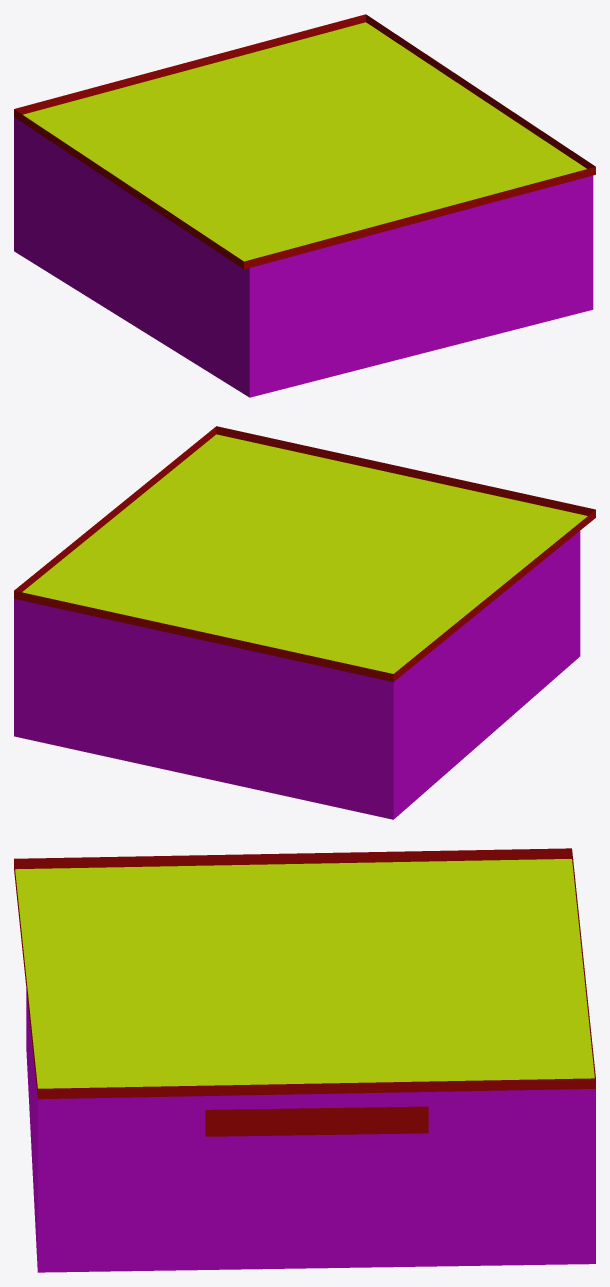
File: bgj_151.glb
The picture shows the model from 3 angles, top to bottom: view 1: azimuth 30°, elevation 25°; view 2: azimuth 150°, elevation 25°; view 3: azimuth 270°, elevation 25°; orthographic projection. The views are drawn at different scales.
Visible parts, largest first — view 1: bgj_151; view 2: bgj_151; view 3: bgj_151.
Boxes of the visible parts, box(x1,y1,x2,y2) form: bgj_151: box(14, 14, 595, 397); bgj_151: box(14, 426, 595, 819); bgj_151: box(14, 848, 595, 1272).
Size of the model in its own units: 17.26 by 6.22 by 17.66.
